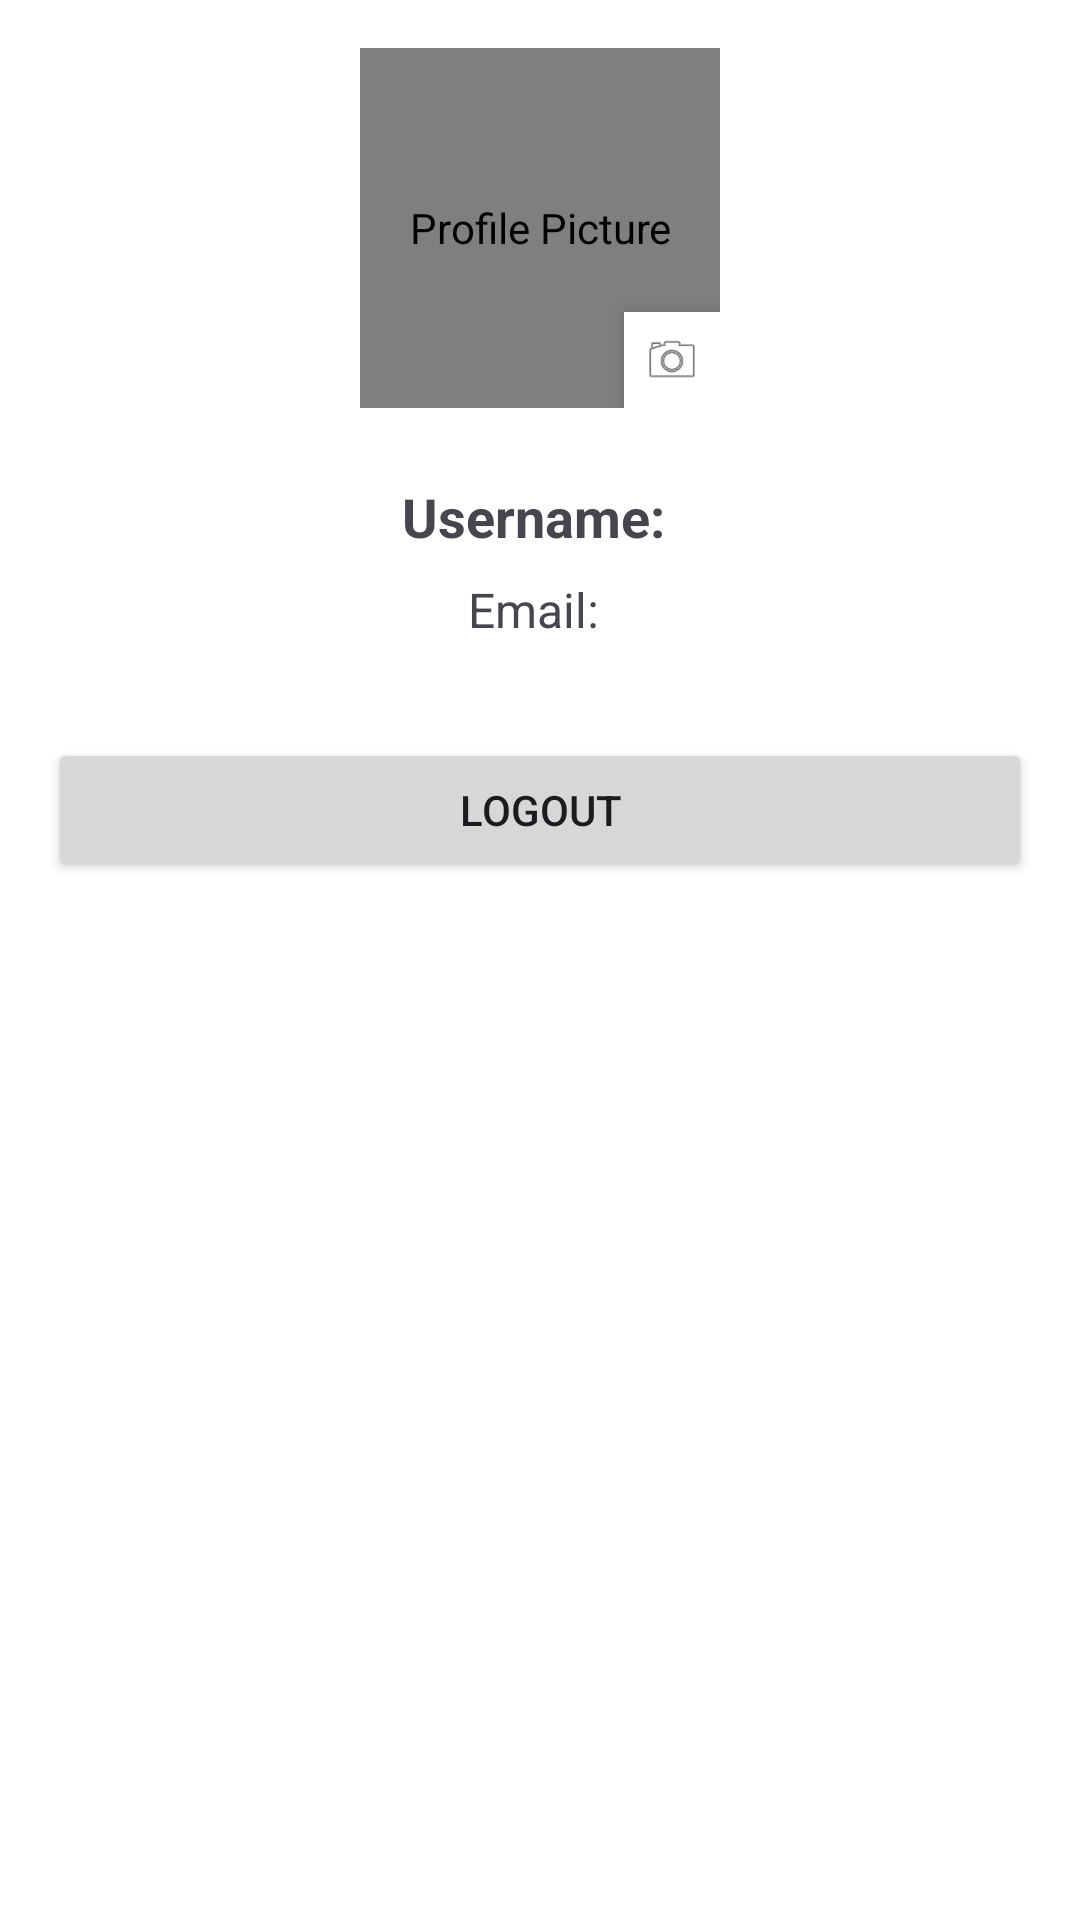

Icon bounding boxes for this 1080w x 1920h phone screenshot, format (x1, y1, x2, y2):
Change photo: (649, 341, 695, 378)
